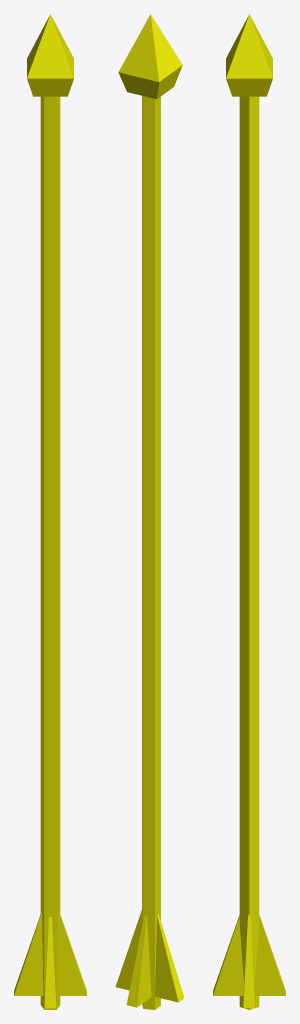
The model's file is _arrow_b_8.glb.
3 renders of one model, left to right at view 1: azimuth 90°, elevation 25°; view 2: azimuth 150°, elevation 25°; view 3: azimuth 270°, elevation 25°, orthographic.
Visible parts, largest first — view 1: arrow_b_8; view 2: arrow_b_8; view 3: arrow_b_8.
Part boxes in pixels (bbox=[...]): arrow_b_8: bbox=[14, 14, 86, 1009]; arrow_b_8: bbox=[115, 14, 184, 1009]; arrow_b_8: bbox=[213, 14, 285, 1009].
Size of the model in its own units: 0.0379 by 0.5692 by 0.0379.
1 material, 1 textured.
